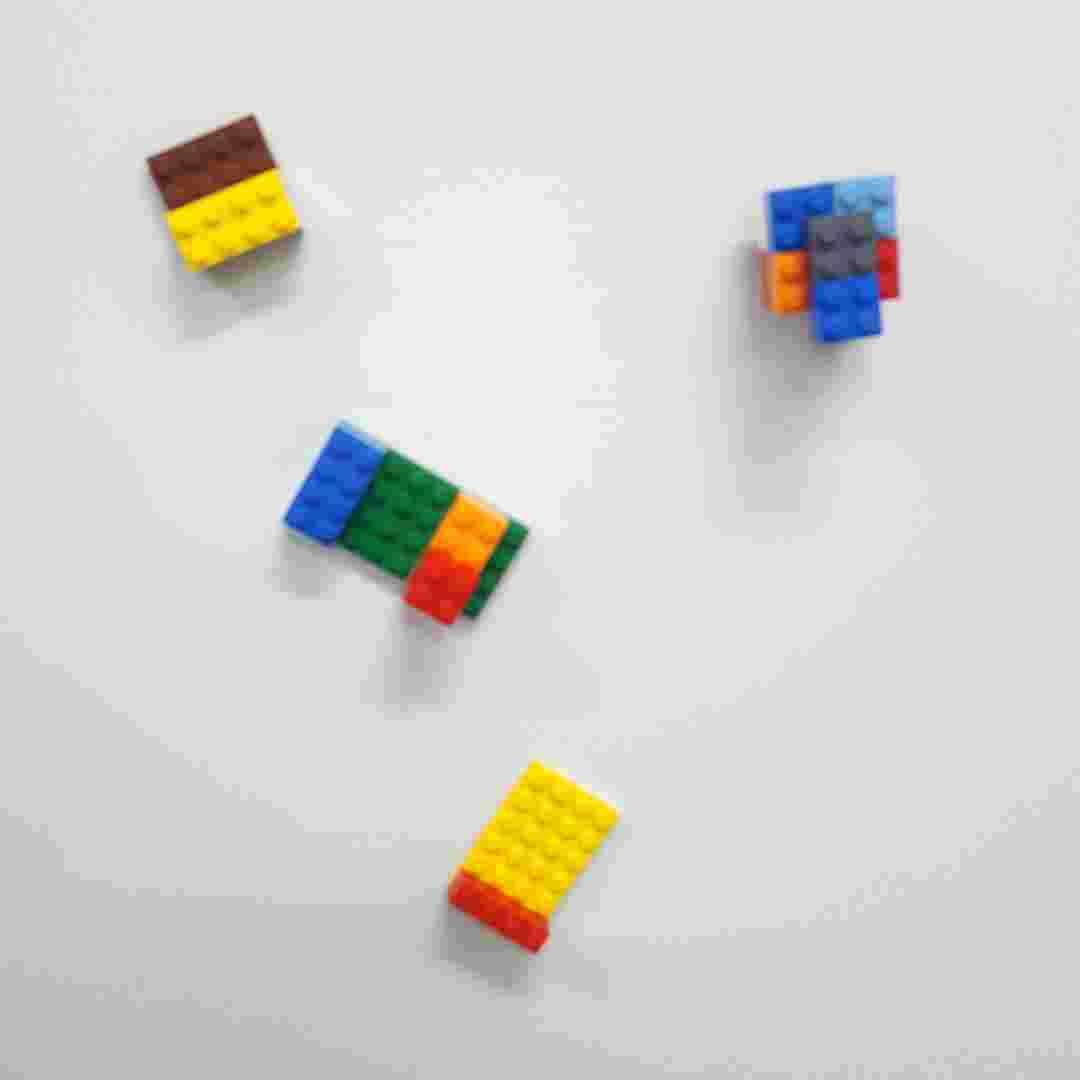LEGO: (279, 426, 532, 618), (442, 754, 628, 951), (144, 110, 306, 280), (762, 170, 908, 344)
